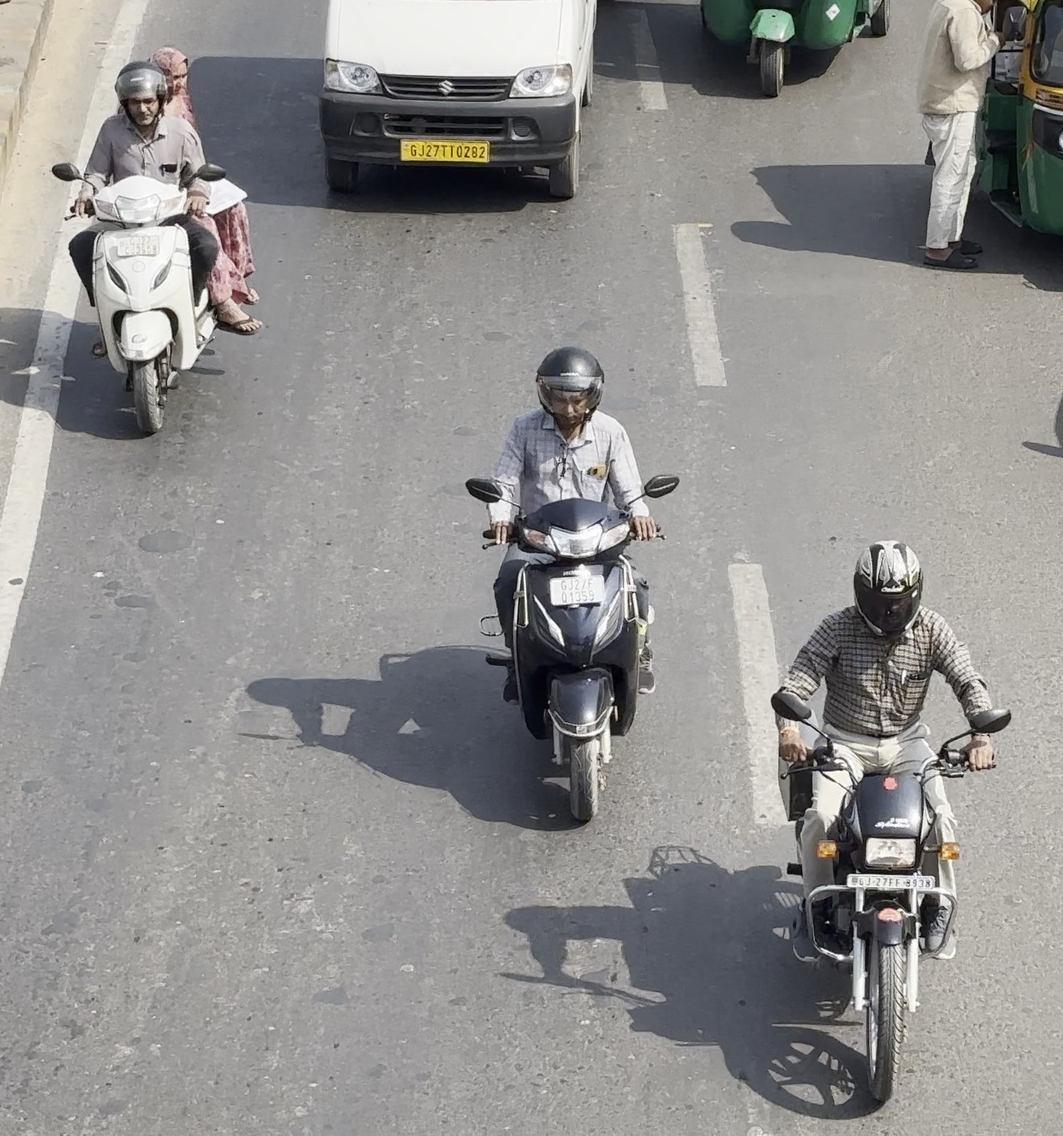BikeWithRider: (757, 529, 1020, 1113), (455, 334, 687, 831), (42, 38, 274, 444)
Helmet: (839, 530, 937, 641), (523, 337, 616, 434), (103, 55, 179, 135)
NoHelmet: (140, 39, 201, 114)
